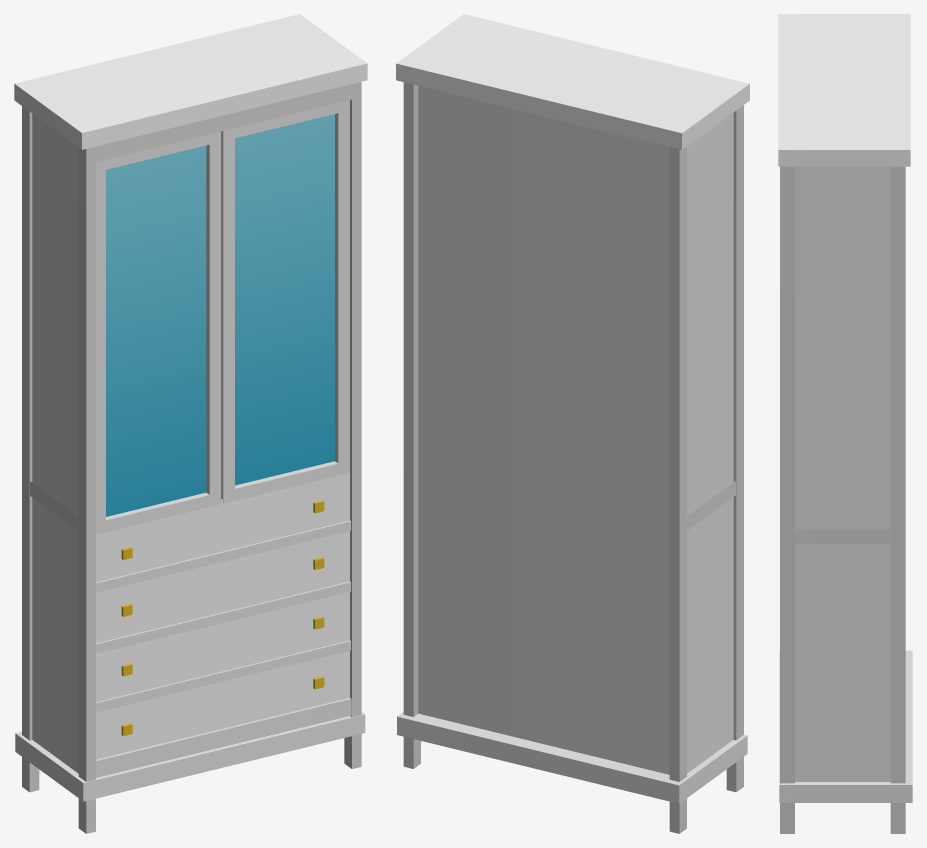
File: closet1.fbx
The picture shows the model from 3 angles, left to right: view 1: azimuth 30°, elevation 25°; view 2: azimuth 150°, elevation 25°; view 3: azimuth 270°, elevation 25°; orthographic projection. The views are drawn at different scales.
Visible parts, largest first — view 1: closet1; view 2: closet1; view 3: closet1.
Boxes of the visible parts, <box> form: closet1: <box>14,14,367,833</box>; closet1: <box>396,14,749,833</box>; closet1: <box>778,14,912,833</box>.
Bounding box in the file's own units: 169 × 398 × 70.42.
